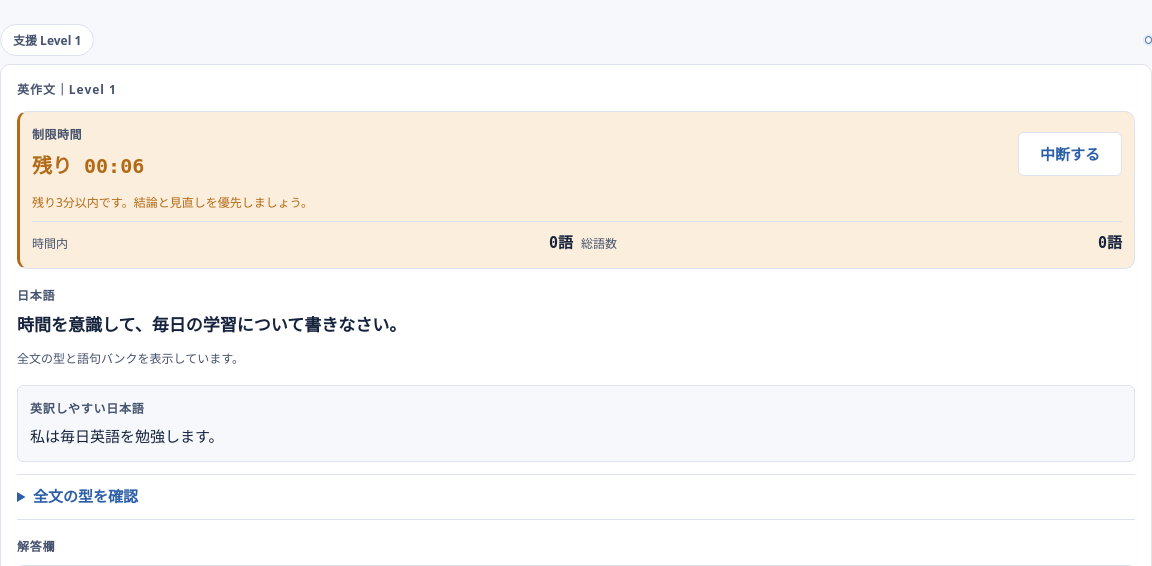
Test: timed writing integration › disables the real answer field while the timer is paused
Click the button "中断する". click: coordinates (1070, 154)
box: top-left (1018, 132), bottom-right (1122, 176)
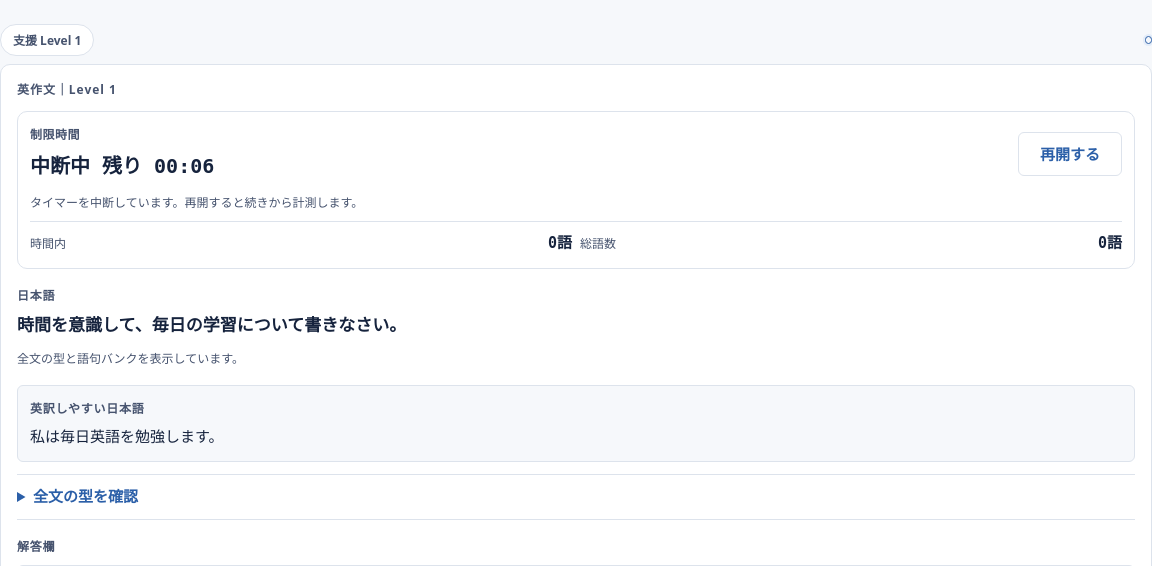
Click the button "再開する". click: coordinates (1070, 154)
box: top-left (1018, 132), bottom-right (1122, 176)
(page scrolled)
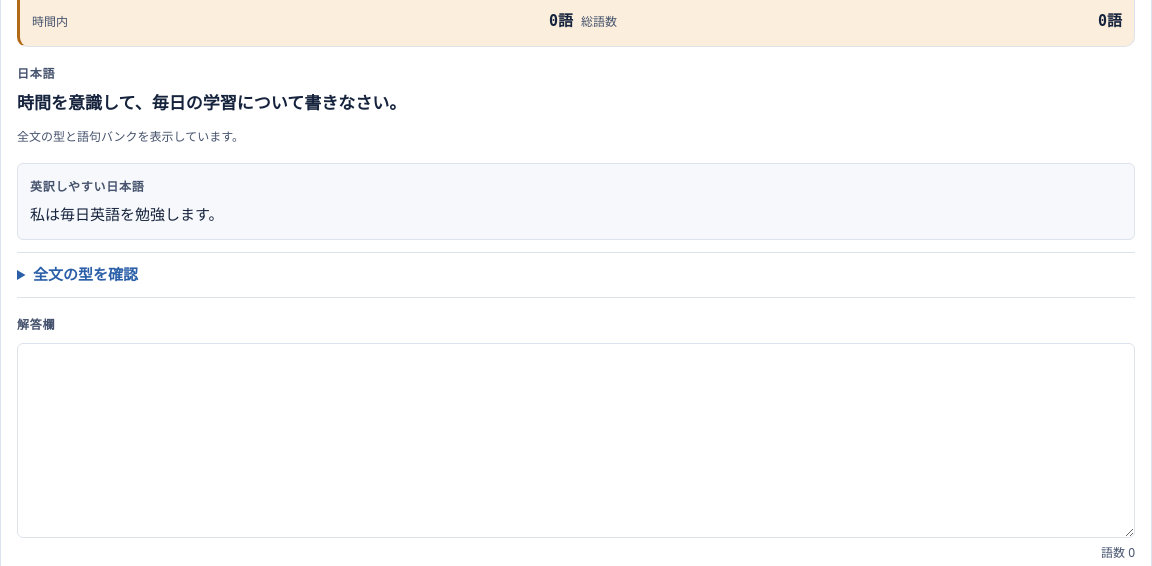
Now the text box labelled "解答欄 語数 0" is enabled, box top-left (17, 343), bottom-right (1135, 538)
